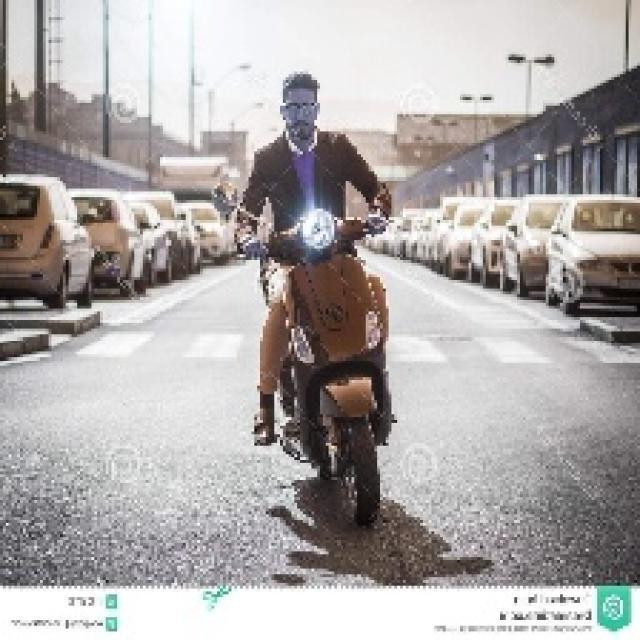bike: (267, 216, 388, 526)
